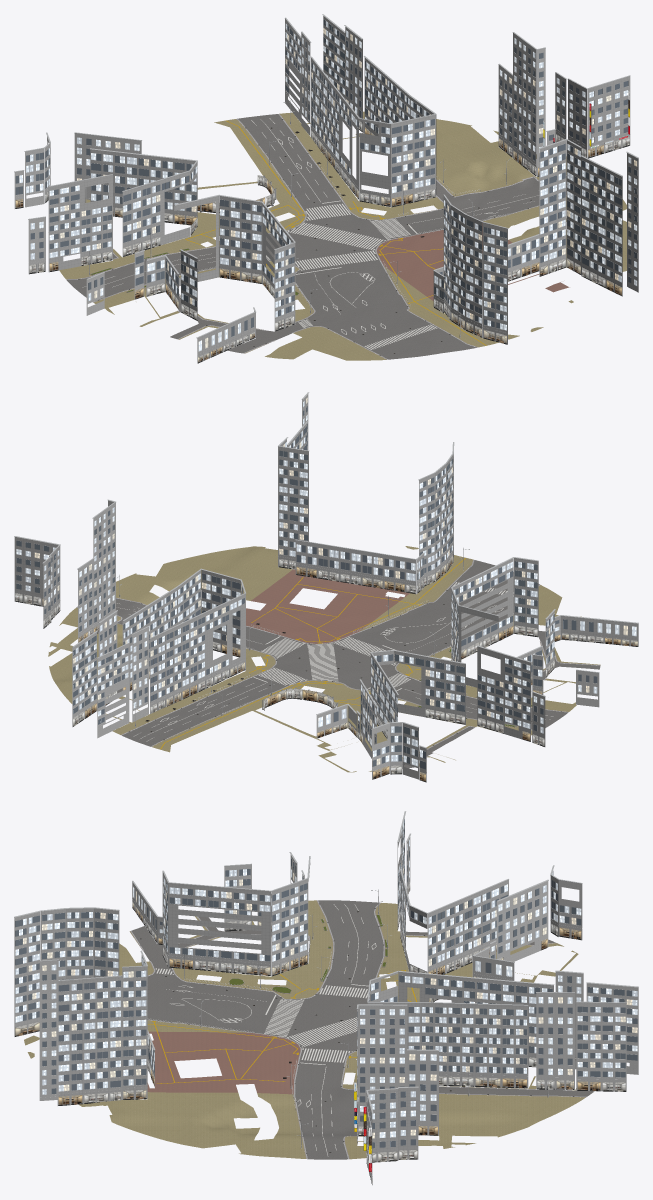
The model's file is scramble.glb.
3 renders of one model, top to bottom at view 1: azimuth 30°, elevation 25°; view 2: azimuth 150°, elevation 25°; view 3: azimuth 270°, elevation 25°, orthographic. The views are drawn at different scales.
Parts seen in each view (by area): view 1: scramble_win_glass_c1_-3, scramble_wall_clad_c1_-3, scramble_wall_cream_c2_0, scramble_wall_clad_c-2_-1, scramble_ground_asphalt_c-1_-2, scramble_wall_grey_c3_0, scramble_wall_grey_c-4_0, scramble_ground_asphalt_c-1_-1, scramble_win_glass_c-2_-1, scramble_wall_clad_c1_0, scramble_ground_paver_c2_1, scramble_win_glass_c1_2 (+91 smaller); view 2: scramble_wall_white_c1_3, scramble_wall_clad_c-2_-2, scramble_win_glass_c1_-3, scramble_ground_sett_c0_-2, scramble_wall_clad_c0_1, scramble_wall_cream_c2_0, scramble_win_glass_c1_2, scramble_ground_asphalt_c-1_-2, scramble_wall_clad_c1_-3, scramble_ground_asphalt_c-1_-1, scramble_wall_grey_c-4_0, scramble_wall_cream_c1_2 (+60 smaller); view 3: scramble_wall_clad_c-2_-2, scramble_wall_cream_c2_0, scramble_win_glass_c1_2, scramble_wall_clad_c-2_-1, scramble_win_glass_c1_-3, scramble_wall_cream_c1_2, scramble_wall_clad_c1_1, scramble_wall_white_c1_3, scramble_ground_paver_c2_-2, scramble_win_glass_c1_1, scramble_ground_asphalt_c-1_-1, scramble_win_glass_c1_3 (+73 smaller).
Part boxes in pixels (x1,y1,x2,y2): scramble_win_glass_c1_-3: [508, 143, 596, 270]; scramble_wall_clad_c1_-3: [539, 140, 581, 276]; scramble_wall_cream_c2_0: [509, 33, 543, 176]; scramble_wall_clad_c-2_-1: [208, 196, 272, 293]; scramble_ground_asphalt_c-1_-2: [313, 268, 405, 313]; scramble_wall_grey_c3_0: [556, 75, 616, 158]; scramble_wall_grey_c-4_0: [48, 179, 92, 271]; scramble_ground_asphalt_c-1_-1: [272, 239, 383, 285]; scramble_win_glass_c-2_-1: [220, 199, 272, 281]; scramble_wall_clad_c1_0: [391, 99, 436, 204]; scramble_ground_paver_c2_1: [436, 125, 507, 170]; scramble_win_glass_c1_2: [302, 30, 377, 136]; scramble_wall_white_c1_3: [72, 635, 129, 738]; scramble_wall_clad_c-2_-2: [468, 558, 536, 652]; scramble_win_glass_c1_-3: [279, 442, 338, 568]; scramble_ground_sett_c0_-2: [293, 586, 399, 629]; scramble_wall_clad_c0_1: [159, 598, 245, 700]; scramble_wall_cream_c2_0: [89, 501, 115, 633]; scramble_win_glass_c1_2: [94, 615, 172, 708]; scramble_ground_asphalt_c-1_-2: [364, 606, 468, 646]; scramble_wall_clad_c1_-3: [278, 439, 308, 568]; scramble_ground_asphalt_c-1_-1: [327, 631, 429, 674]; scramble_wall_grey_c-4_0: [494, 652, 530, 741]; scramble_wall_cream_c1_2: [98, 611, 148, 722]; scramble_wall_clad_c-2_-2: [163, 873, 270, 972]; scramble_wall_cream_c2_0: [357, 1005, 415, 1135]; scramble_win_glass_c1_2: [497, 975, 582, 1076]; scramble_wall_clad_c-2_-1: [239, 879, 308, 976]; scramble_win_glass_c1_-3: [97, 956, 154, 1088]; scramble_wall_cream_c1_2: [536, 971, 583, 1089]; scramble_wall_clad_c1_1: [411, 1003, 528, 1087]; scramble_wall_white_c1_3: [576, 983, 638, 1091]; scramble_ground_paver_c2_-2: [158, 1101, 242, 1140]; scramble_win_glass_c1_1: [414, 1007, 499, 1072]; scramble_ground_asphalt_c-1_-1: [242, 994, 326, 1031]; scramble_win_glass_c1_3: [583, 987, 637, 1077].
Size of the model in its own units: 229 by 54.88 by 205.
22 materials, 17 textured.
